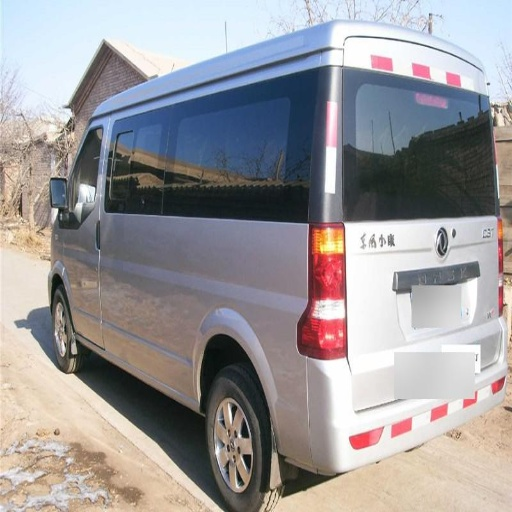back_bumper: (279, 358, 384, 467)
back_left_light: (297, 223, 347, 357)
back_right_door: (70, 242, 96, 333)
tailgate: (343, 164, 501, 343)
trunk: (131, 218, 307, 419), (346, 286, 492, 409)
